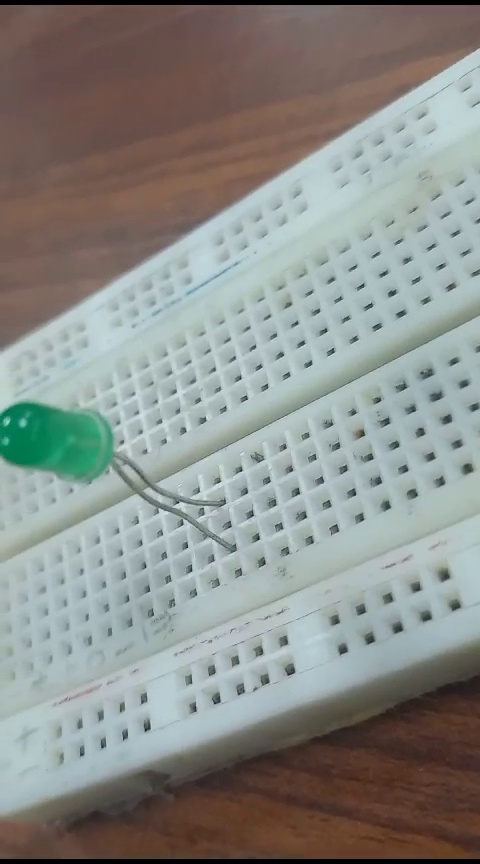LED: (4, 392, 254, 556)
